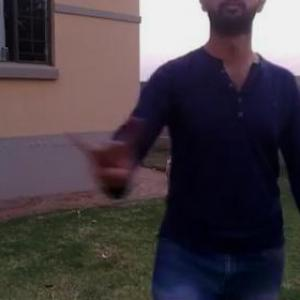takeoff-hand: (59, 117, 132, 198)
